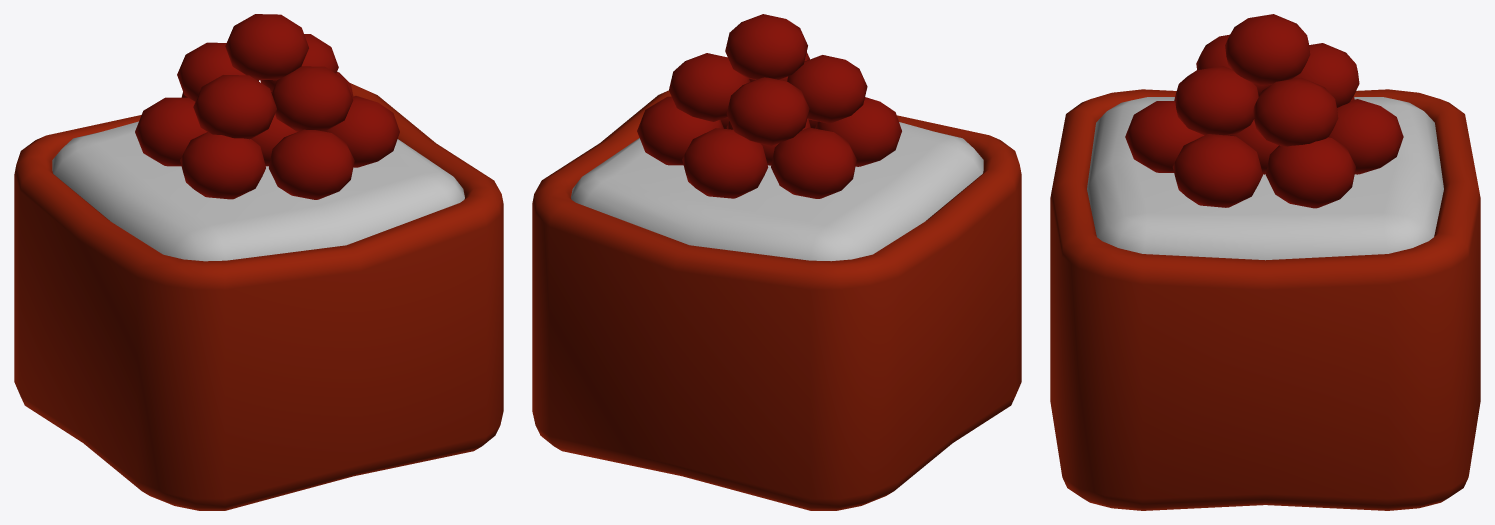
The model's file is Sushi_2.FBX.
3 views of the same model, side by side, from view 1: azimuth 30°, elevation 25°; view 2: azimuth 150°, elevation 25°; view 3: azimuth 270°, elevation 25° (orthographic). The views are drawn at different scales.
Parts seen in each view (by area): view 1: Sushi_2; view 2: Sushi_2; view 3: Sushi_2.
Part boxes in pixels (left/top/right/bottom): Sushi_2: left=14, top=14, right=503, bottom=510; Sushi_2: left=532, top=14, right=1021, bottom=510; Sushi_2: left=1050, top=14, right=1480, bottom=510.
Bounding box in the file's own units: 997 × 984 × 1079.
